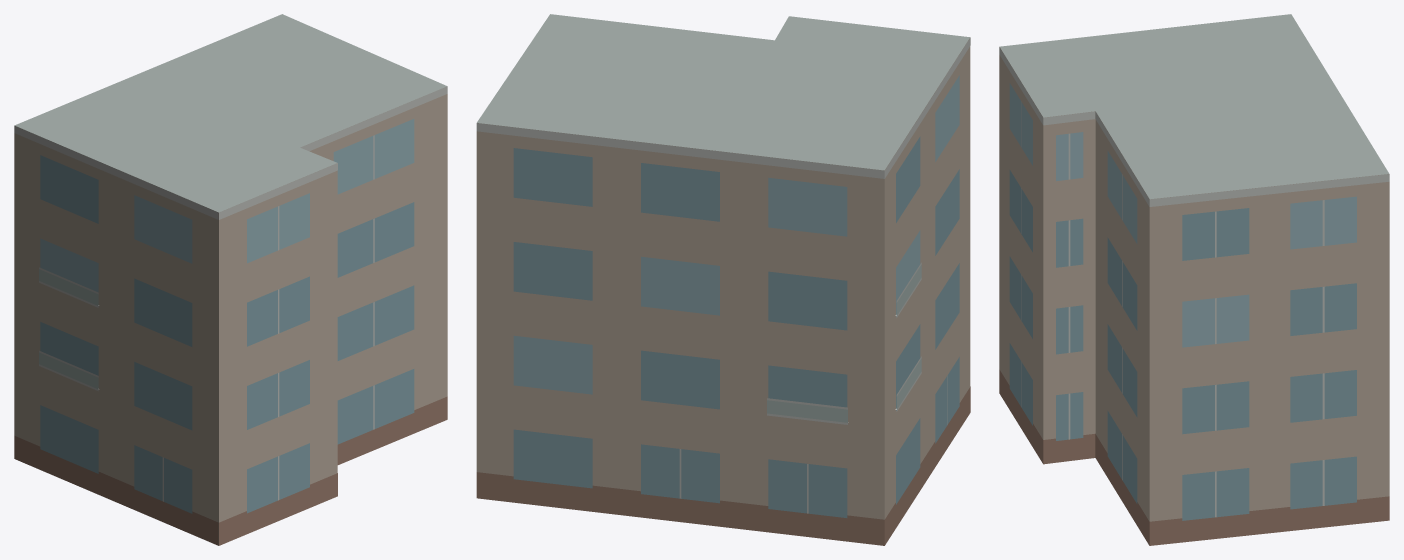
Rendered from survey-upis-32719423.glb.
3 views of the same model, side by side, from view 1: azimuth 30°, elevation 25°; view 2: azimuth 150°, elevation 25°; view 3: azimuth 270°, elevation 25° (orthographic). The views are drawn at different scales.
Visible parts, largest first — view 1: survey-upis-32719423.tmp; view 2: survey-upis-32719423.tmp; view 3: survey-upis-32719423.tmp.
Part boxes in pixels (x1=…): survey-upis-32719423.tmp: x1=14, y1=14, x2=447, y2=545; survey-upis-32719423.tmp: x1=476, y1=14, x2=970, y2=545; survey-upis-32719423.tmp: x1=999, y1=14, x2=1389, y2=545.
Size of the model in its own units: 12.39 by 10.8 by 11.03.
